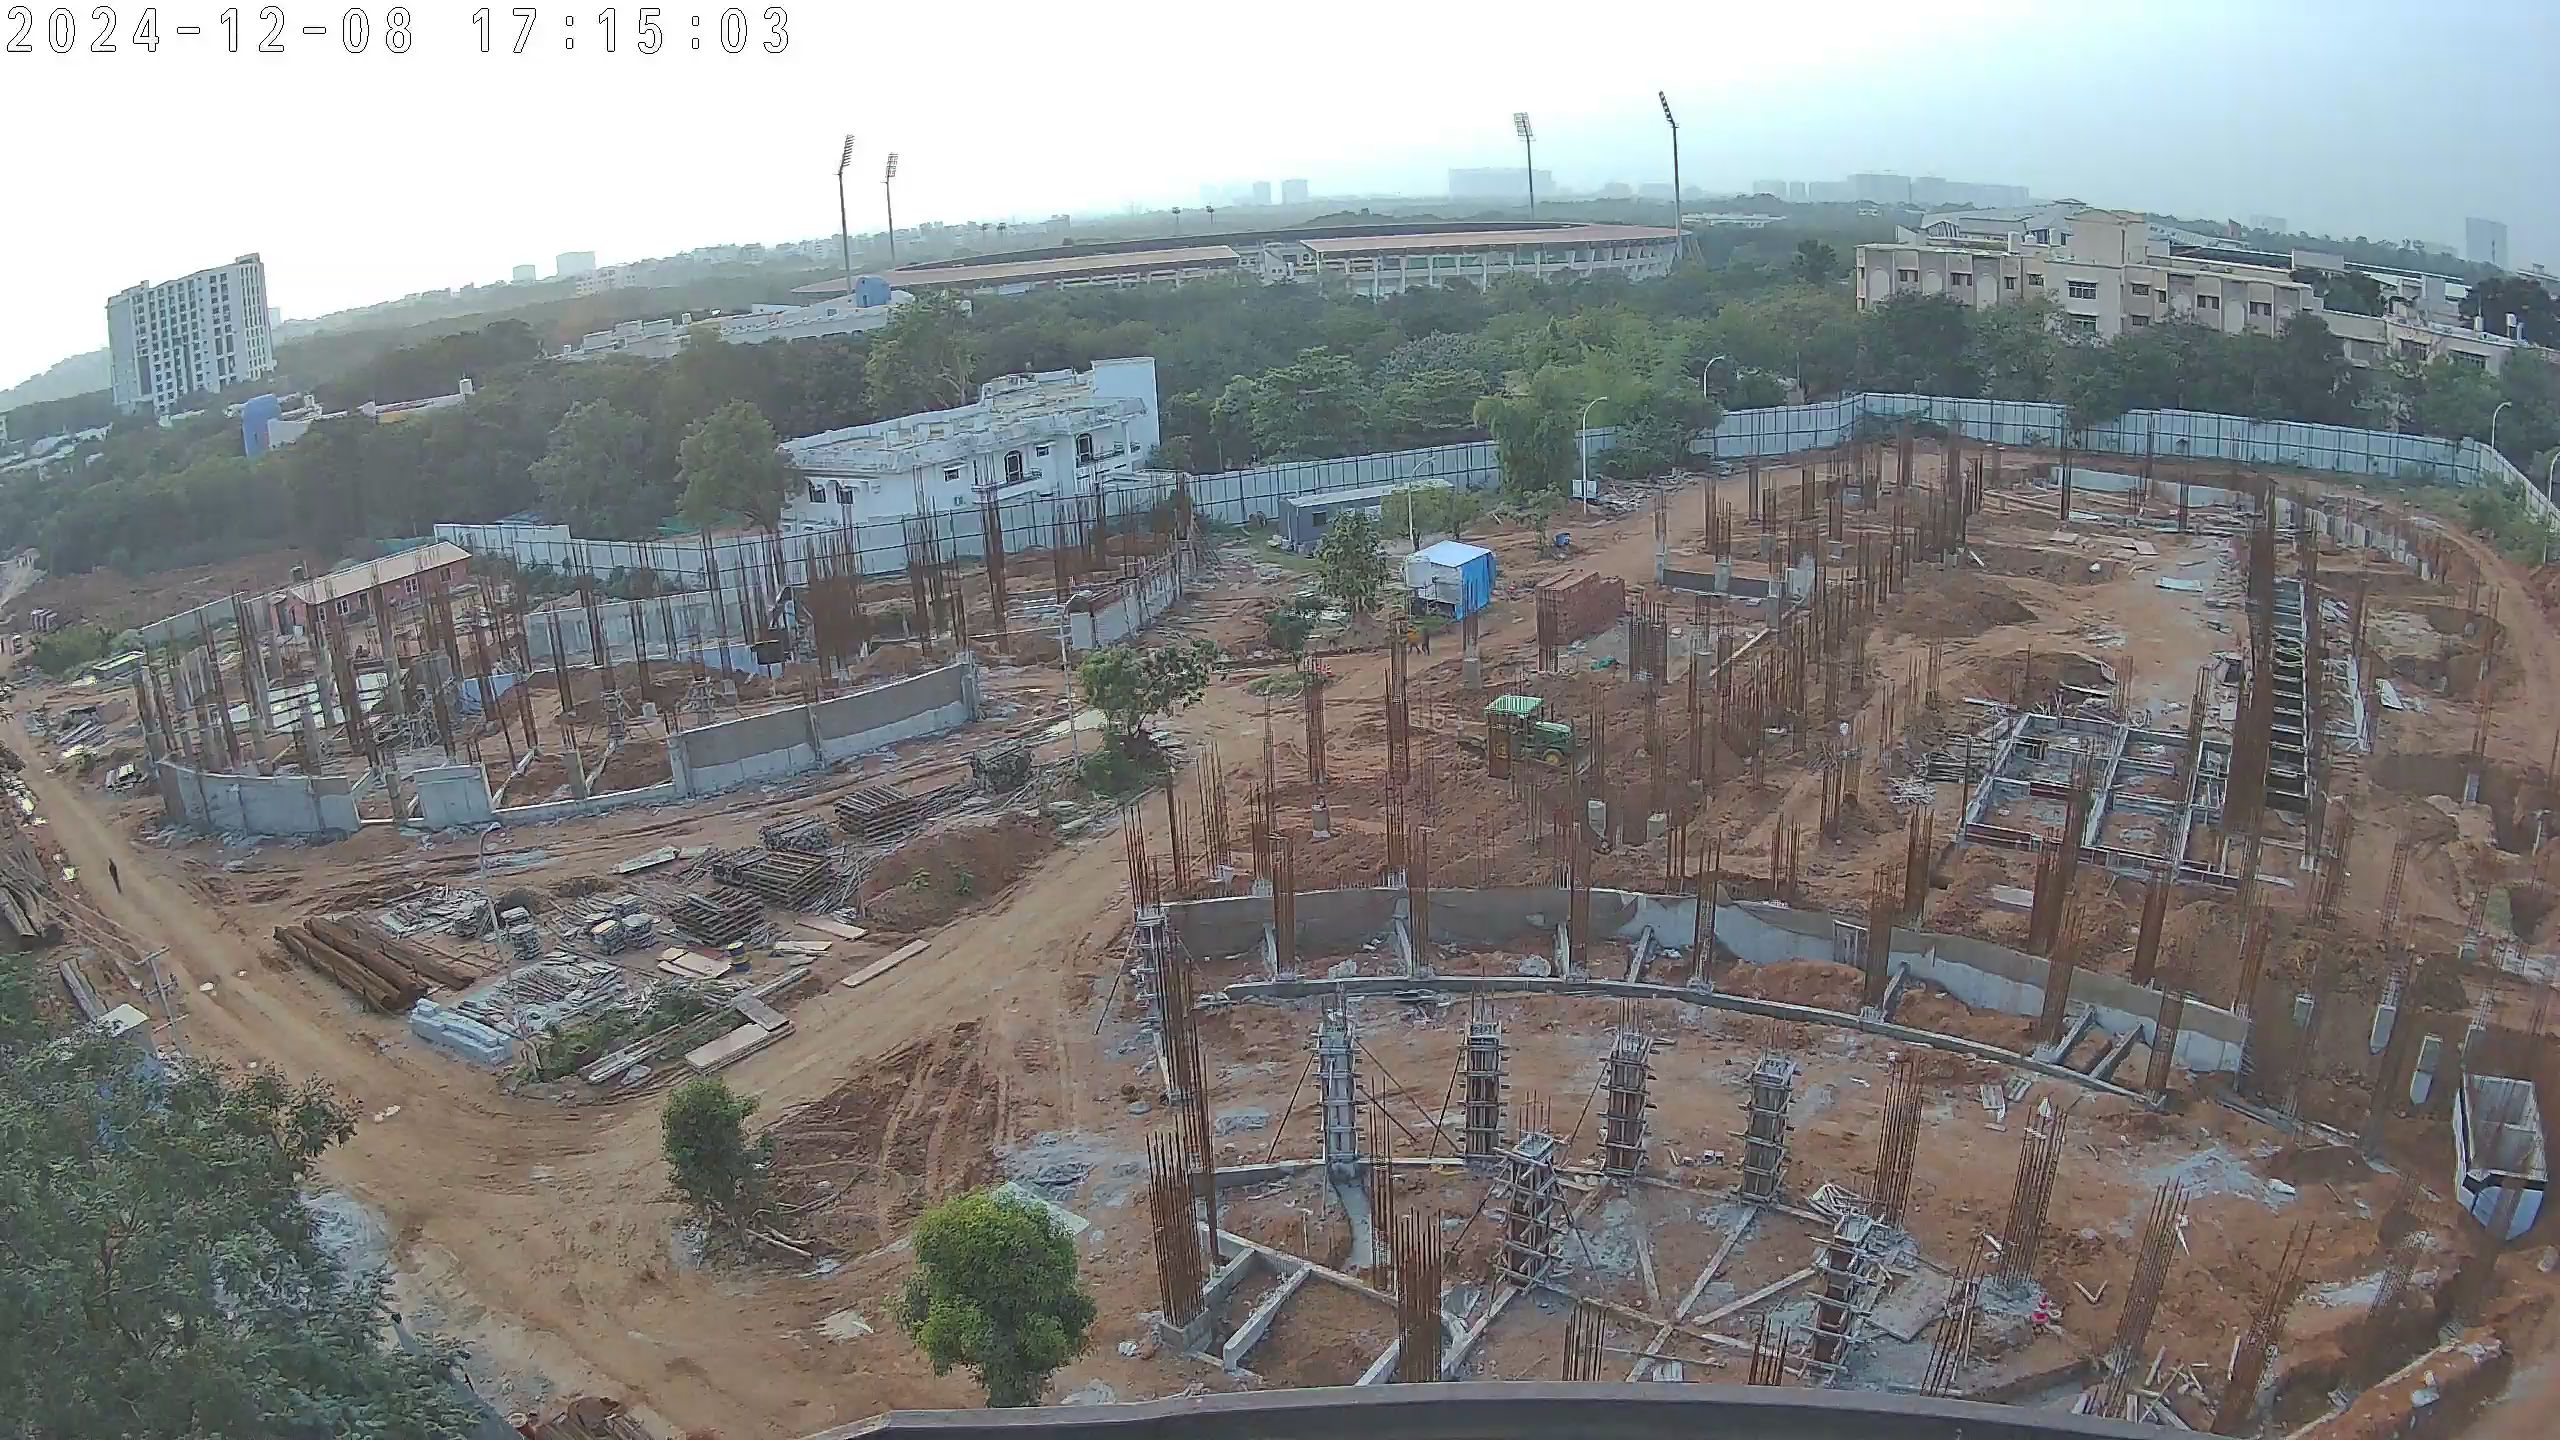bulldozer: (1449, 689, 1607, 789)
worker: (102, 851, 132, 898), (1401, 622, 1425, 661), (1416, 621, 1433, 660)
